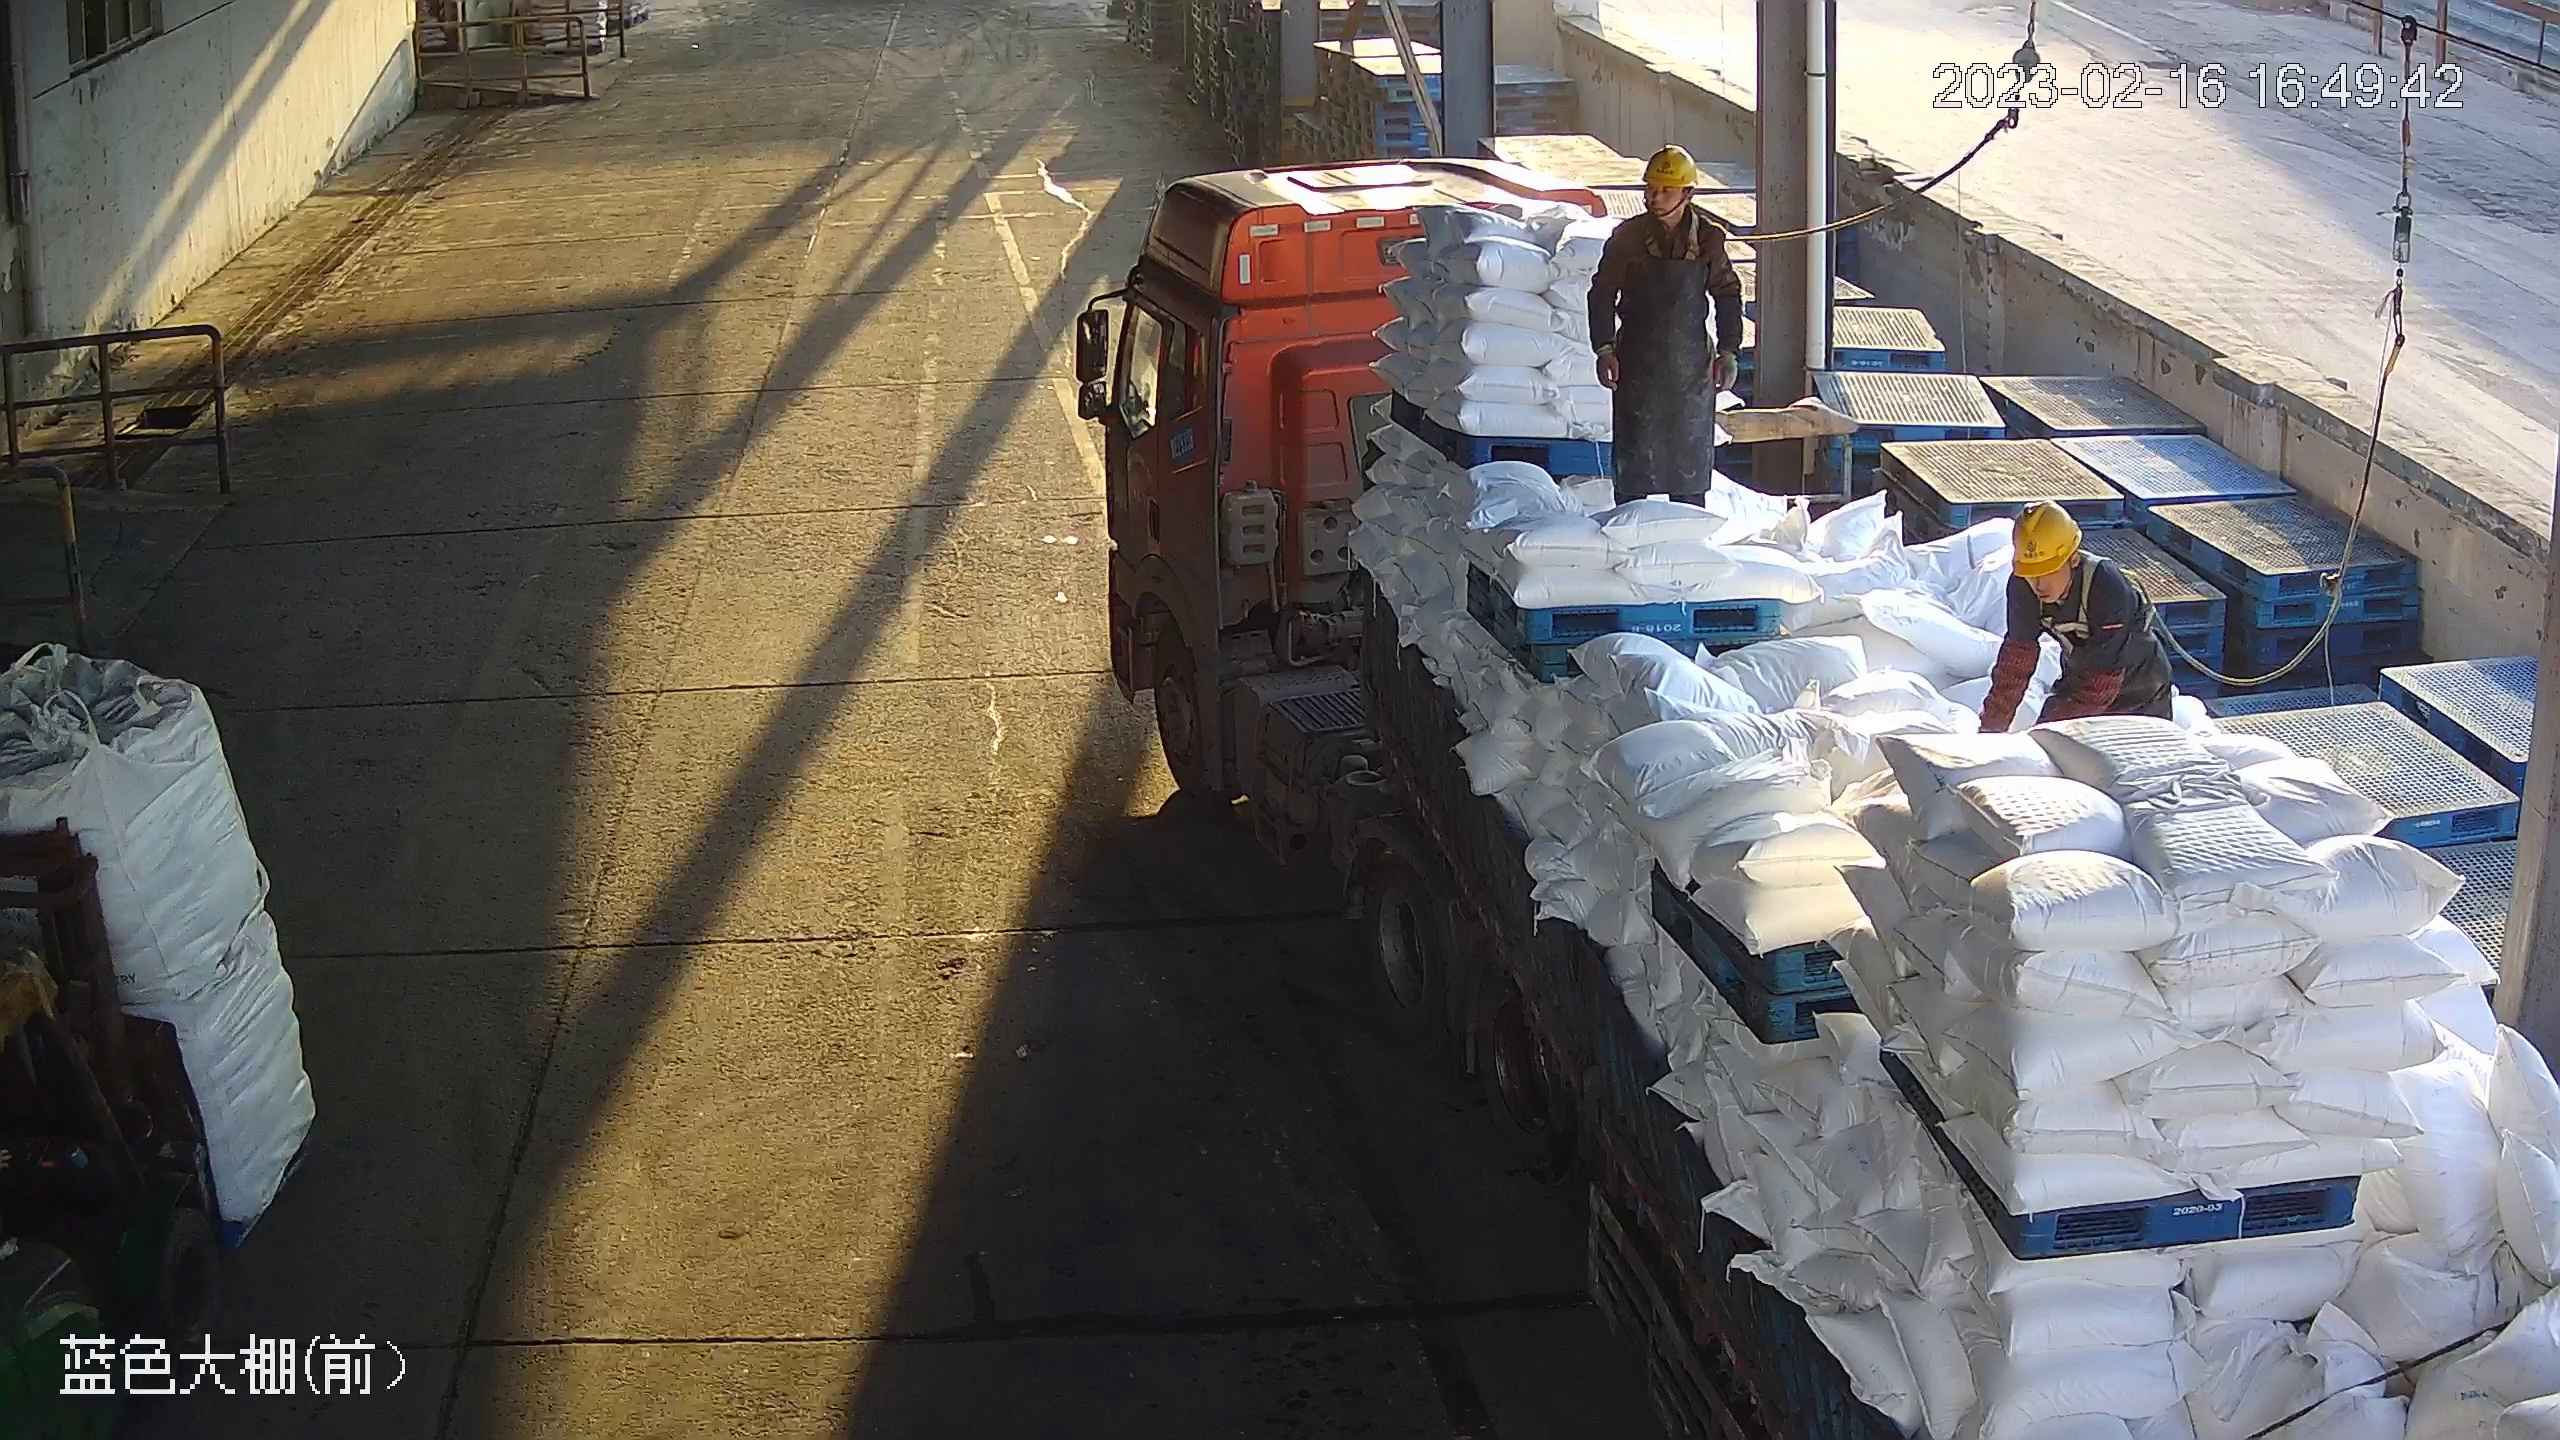belt: (2038, 549, 2109, 652), (1638, 204, 1703, 262)
head: (1601, 144, 1725, 268), (2007, 501, 2128, 611)
helmet: (2009, 500, 2080, 579), (1644, 144, 1700, 188)
people: (1586, 143, 1744, 509), (1974, 499, 2174, 734)
truck: (1074, 159, 2560, 1440)
